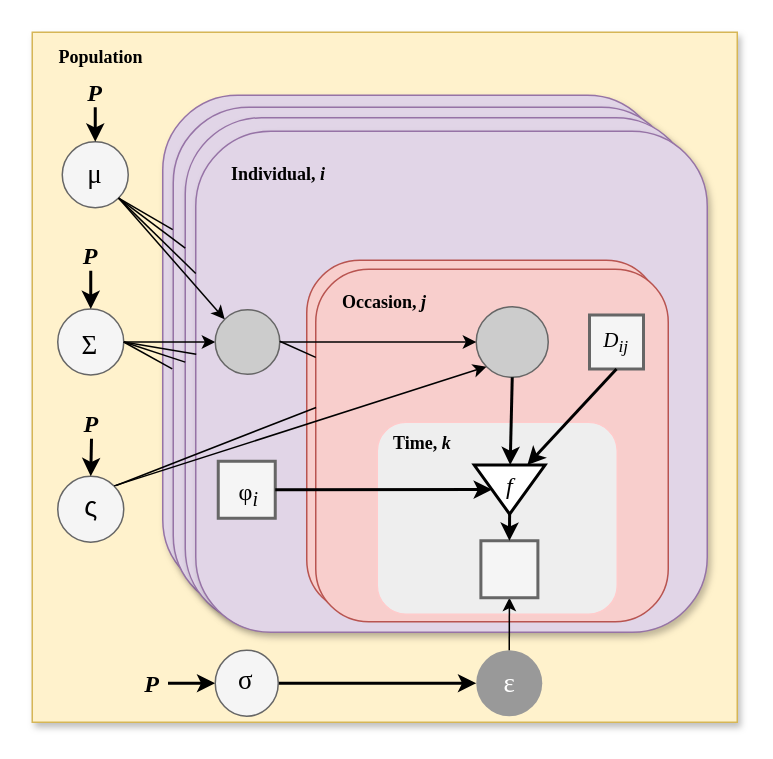
The diagram is 773 pixels wide and 759 high, and some of its shapes have lost their labels. The centre of each missing label's shape, as x and y in pixels:
y ijk: pixel 509 568
θ i: pixel 247 341
θ ij: pixel 511 341
